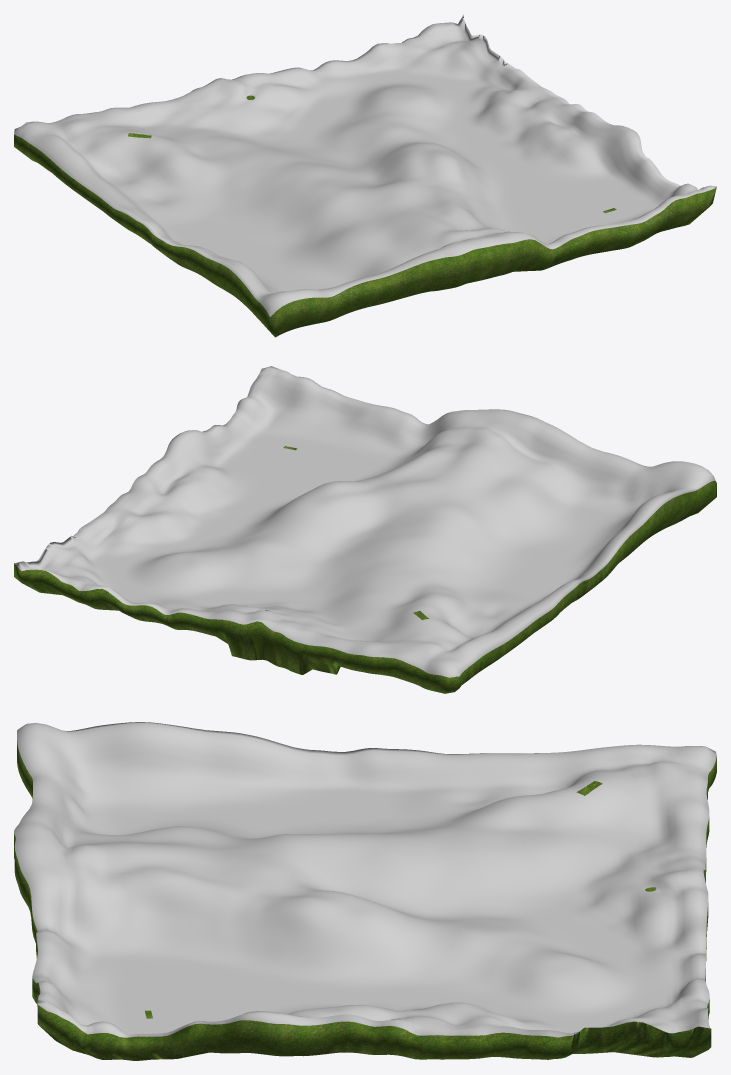
File: world floor.gltf
The picture shows the model from 3 angles, top to bottom: view 1: azimuth 30°, elevation 25°; view 2: azimuth 150°, elevation 25°; view 3: azimuth 270°, elevation 25°; orthographic projection. The views are drawn at different scales.
Parts seen in each view (by area): view 1: Grid; view 2: Grid; view 3: Grid.
Part boxes in pixels (bbox=[...]): Grid: bbox=[14, 14, 716, 337]; Grid: bbox=[14, 366, 716, 693]; Grid: bbox=[14, 722, 716, 1060].
Size of the model in its own units: 104 by 20.91 by 105.
